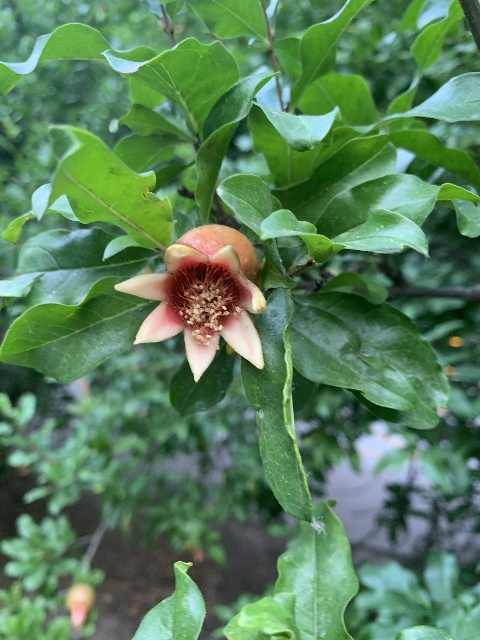early-fruit: (113, 223, 266, 383)
mid-growth: (63, 583, 96, 630)
